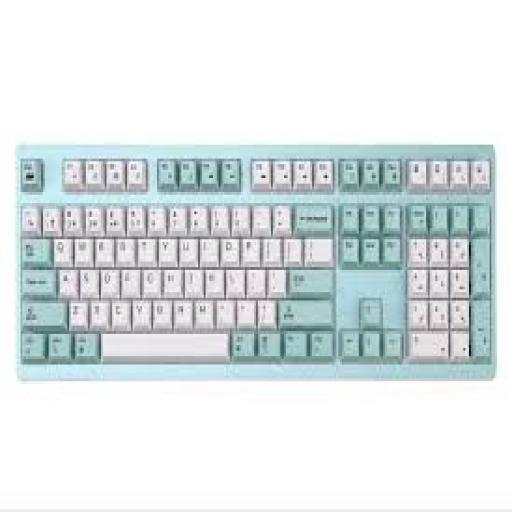KEYBOARD-2: (15, 145, 495, 378)
